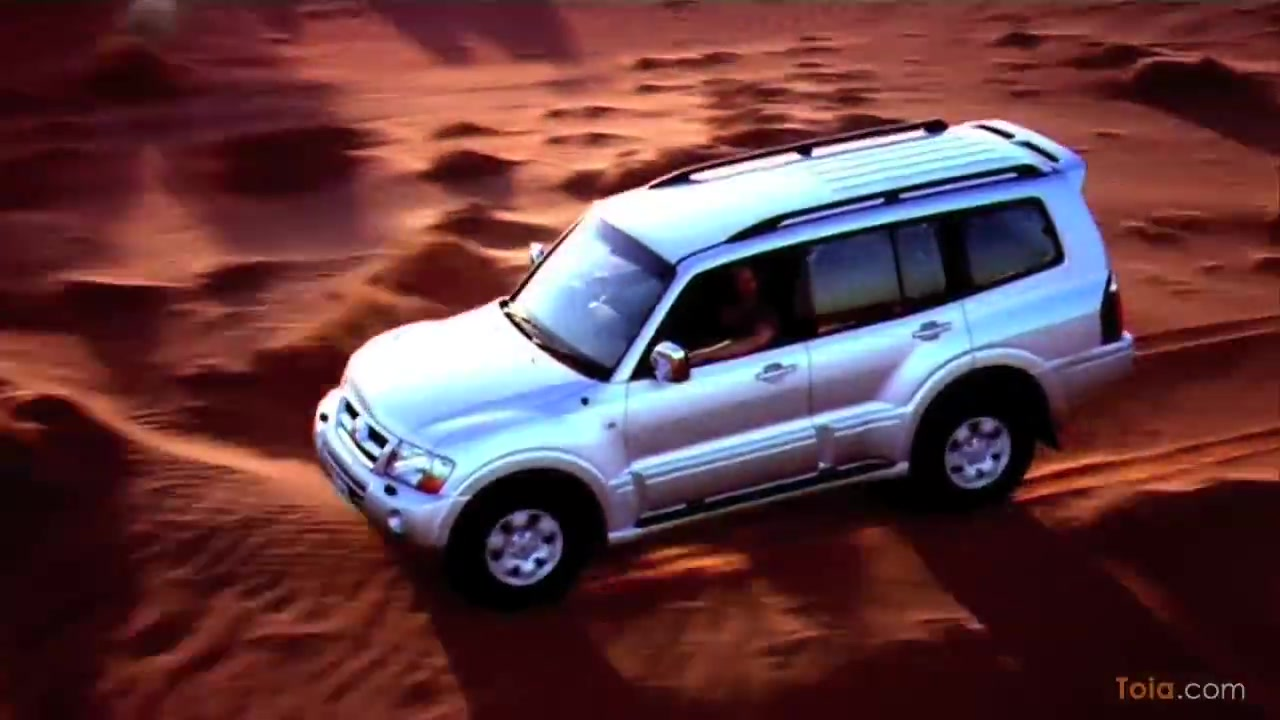car: (310, 112, 1144, 609)
